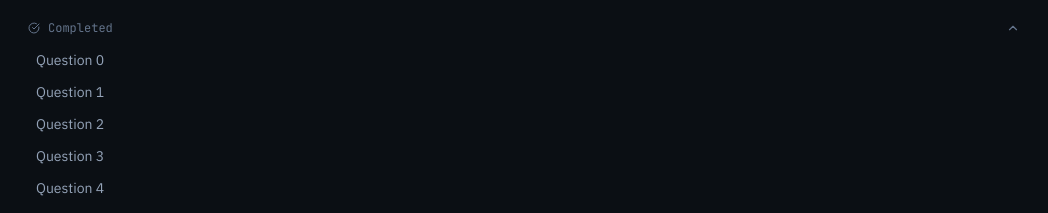
Test case: PaginatedSection › collapses on second header click
The width and height of the screenshot is (1048, 213).
Click the button.
click(80, 28)  # box [12, 12, 1036, 44]
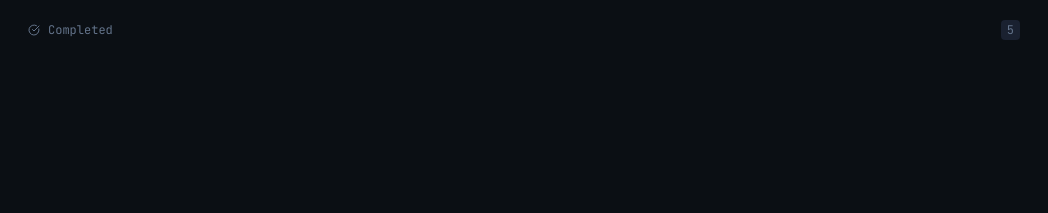
Expected: the element with test id "page-list" is gone
